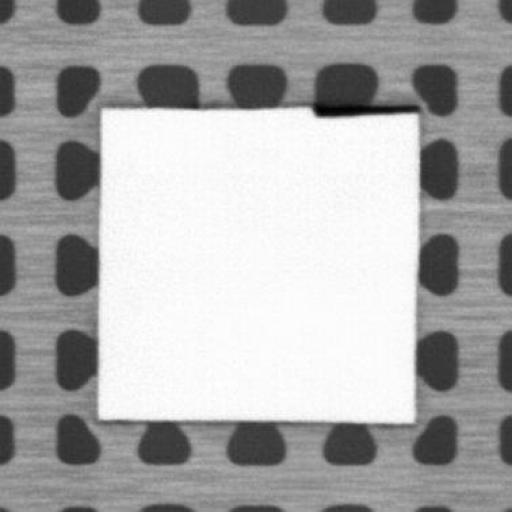DIE_BROKEN: (306, 100, 420, 119)
